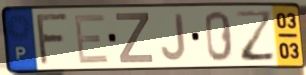0: (204, 10, 234, 64)
E: (72, 12, 111, 66)
F: (35, 12, 72, 68)
J: (159, 12, 188, 63)
Z: (233, 8, 278, 63), (114, 11, 156, 65)
